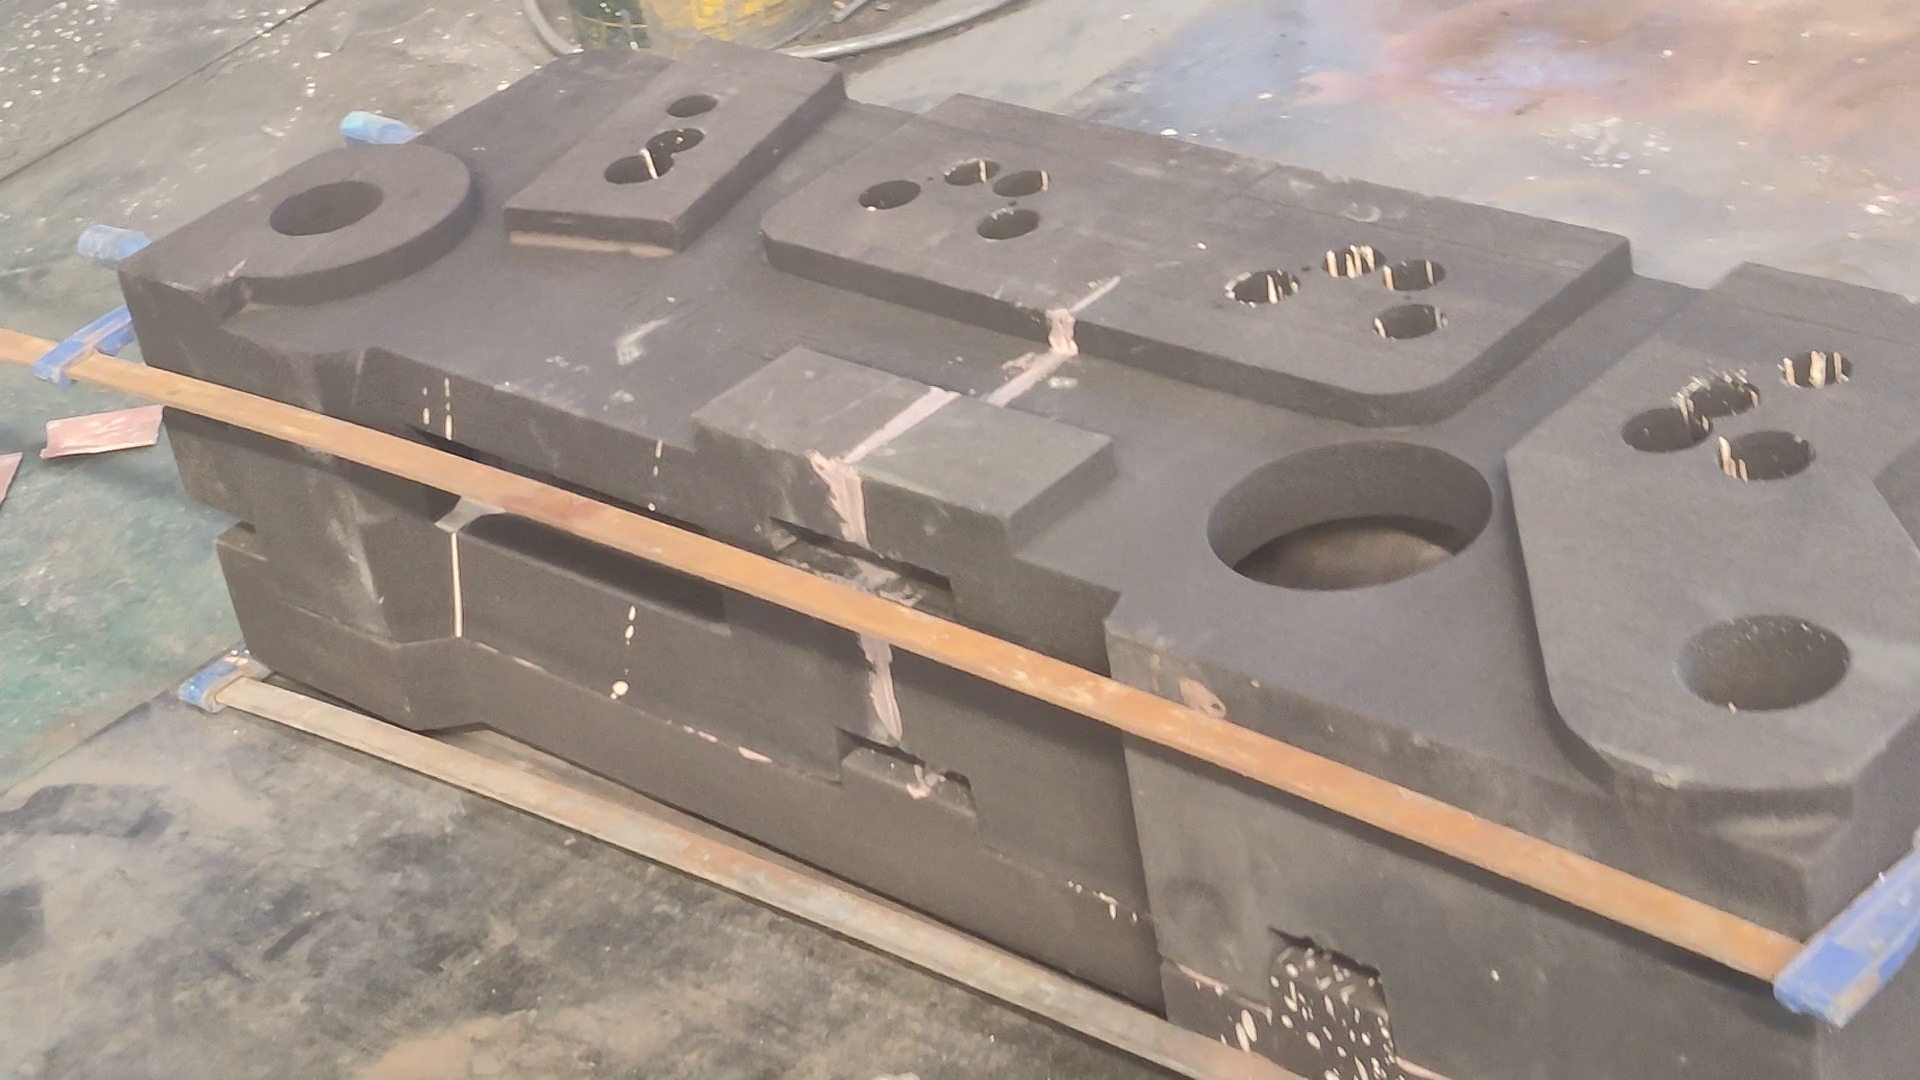pouring hole: (1676, 611, 1851, 713), (266, 181, 382, 235)
